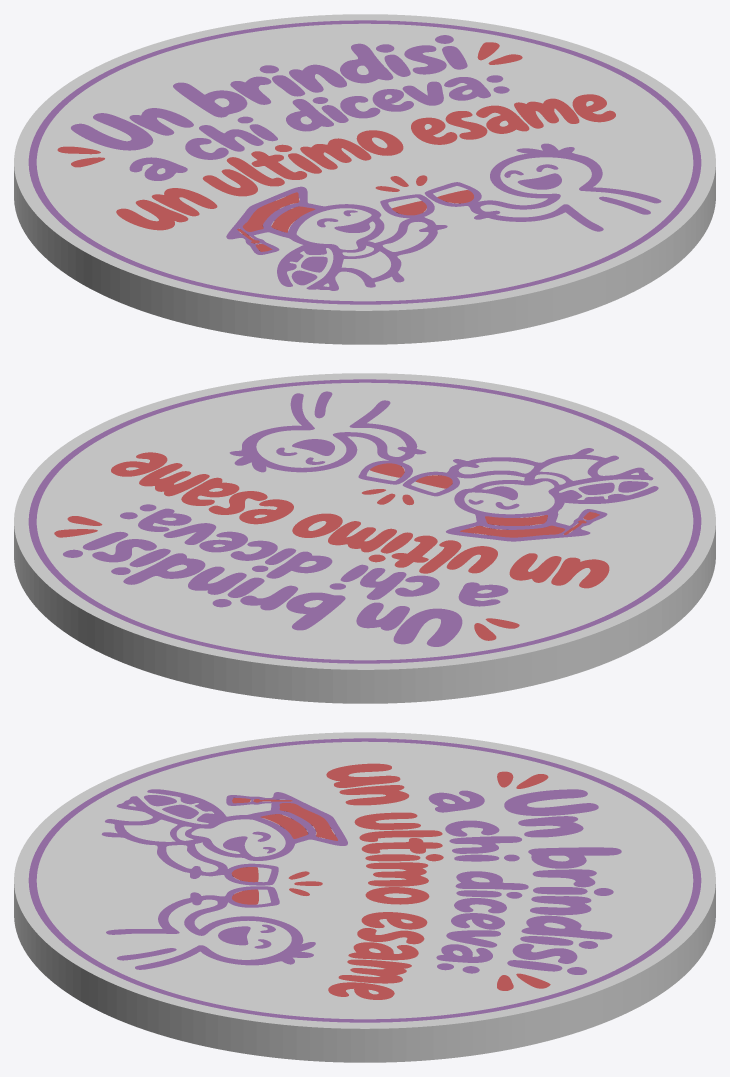
The model's file is sottobicchiere-brindisi-ai-fuori-corso.glb.
3 renders of one model, top to bottom at view 1: azimuth 30°, elevation 25°; view 2: azimuth 150°, elevation 25°; view 3: azimuth 270°, elevation 25°, orthographic.
Parts seen in each view (by area): view 1: coaster_base, coaster_ink, coaster_accent; view 2: coaster_base, coaster_ink, coaster_accent; view 3: coaster_base, coaster_ink, coaster_accent.
Part boxes in pixels (left/top/right/bottom): coaster_base: left=14, top=14, right=715, bottom=344; coaster_ink: left=28, top=20, right=701, bottom=304; coaster_accent: left=57, top=42, right=615, bottom=251; coaster_base: left=14, top=373, right=715, bottom=703; coaster_ink: left=28, top=379, right=701, bottom=663; coaster_accent: left=54, top=452, right=609, bottom=640; coaster_base: left=14, top=732, right=715, bottom=1062; coaster_ink: left=28, top=738, right=701, bottom=1022; coaster_accent: left=231, top=763, right=550, bottom=999.
Size of the model in its own units: 0.075 by 0.004 by 0.075.
